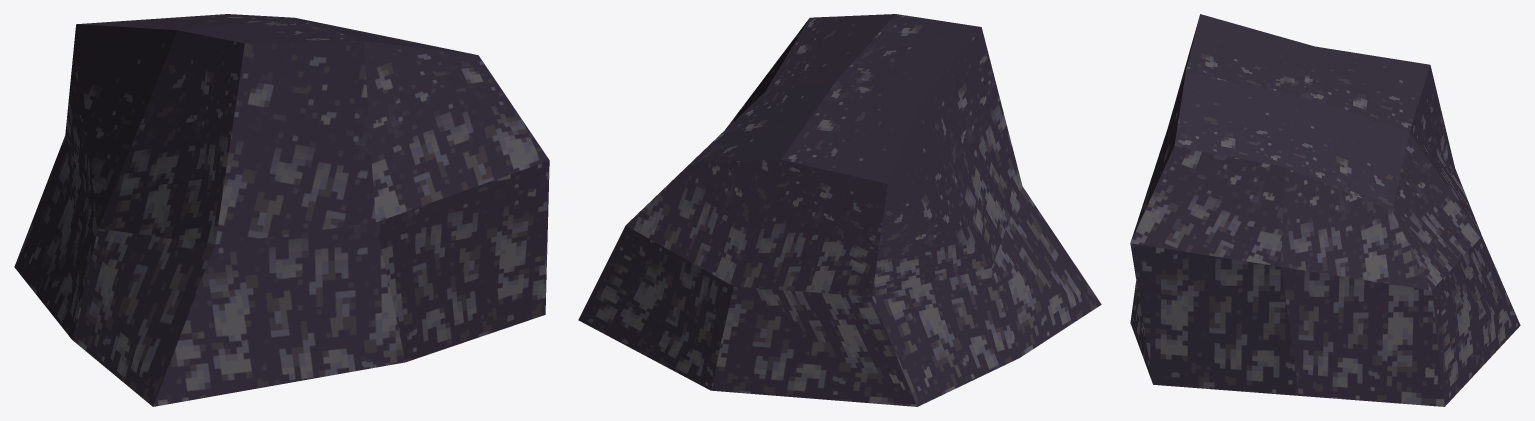
File: StoneHugeCModel.fbx
3 renders of one model, left to right at view 1: azimuth 30°, elevation 25°; view 2: azimuth 150°, elevation 25°; view 3: azimuth 270°, elevation 25°, orthographic. The views are drawn at different scales.
Visible parts, largest first — view 1: StoneHugeCModel; view 2: StoneHugeCModel; view 3: StoneHugeCModel.
Part boxes in pixels (x1,y1,x2,y2): StoneHugeCModel: (14,14,549,406); StoneHugeCModel: (578,14,1101,406); StoneHugeCModel: (1130,14,1520,406).
Bounding box in the file's own units: 1466 × 1000 × 1354.
